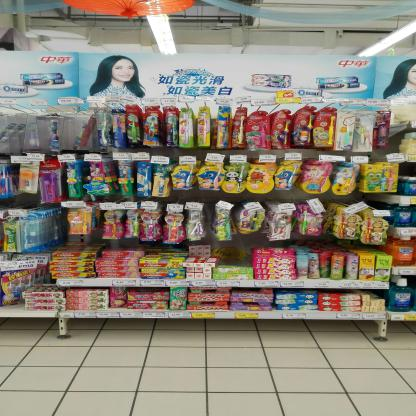Void: (220, 242, 255, 264)
